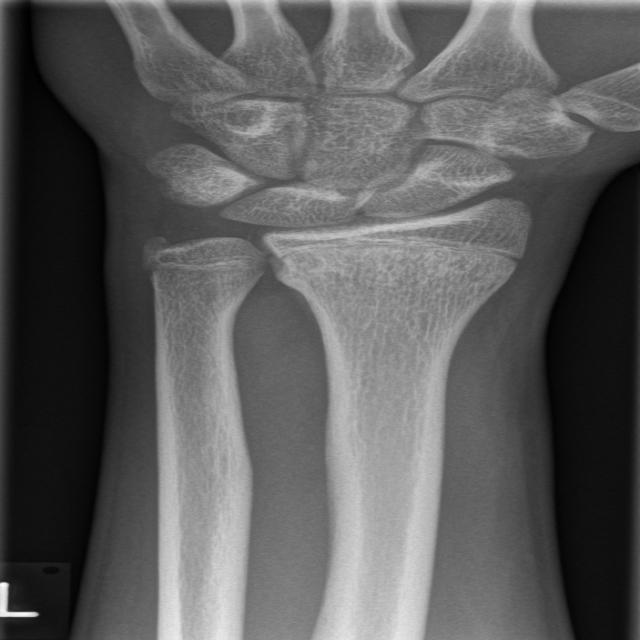radius fracture: (256, 250, 530, 347)
